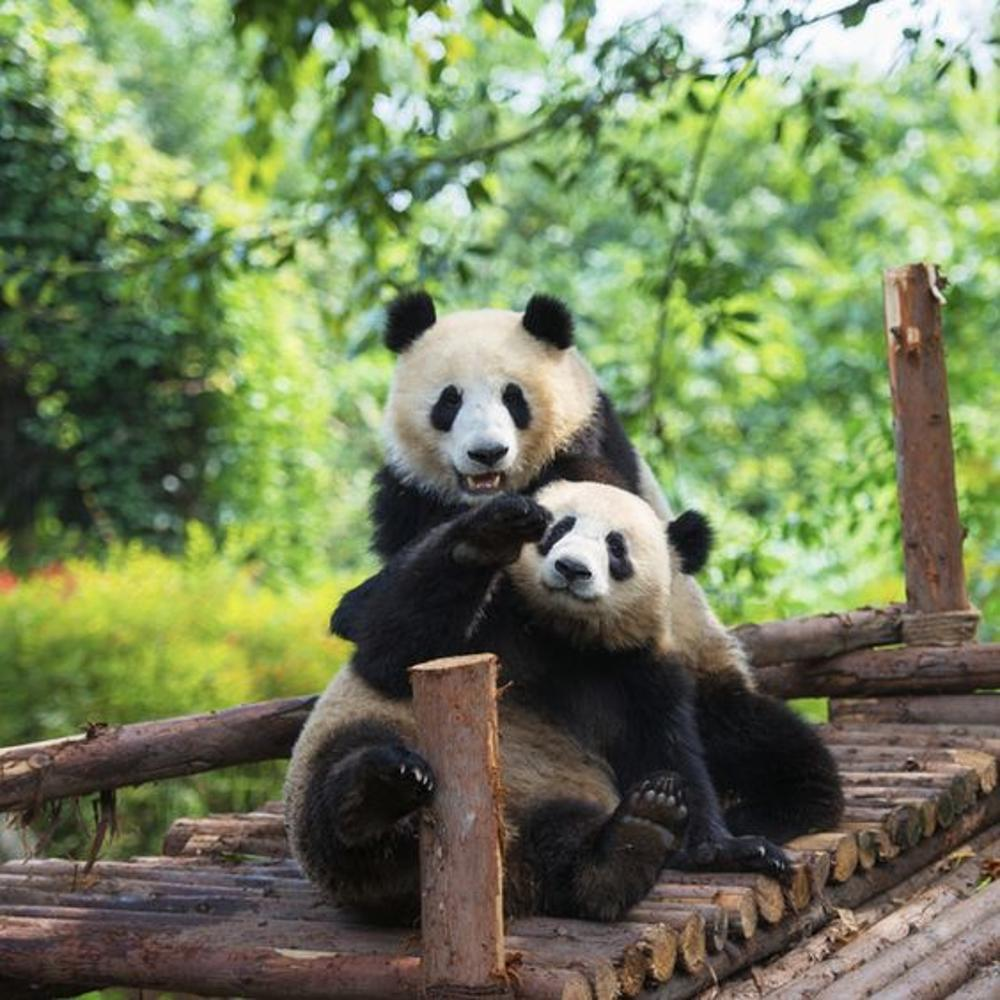panda: (310, 480, 722, 924)
